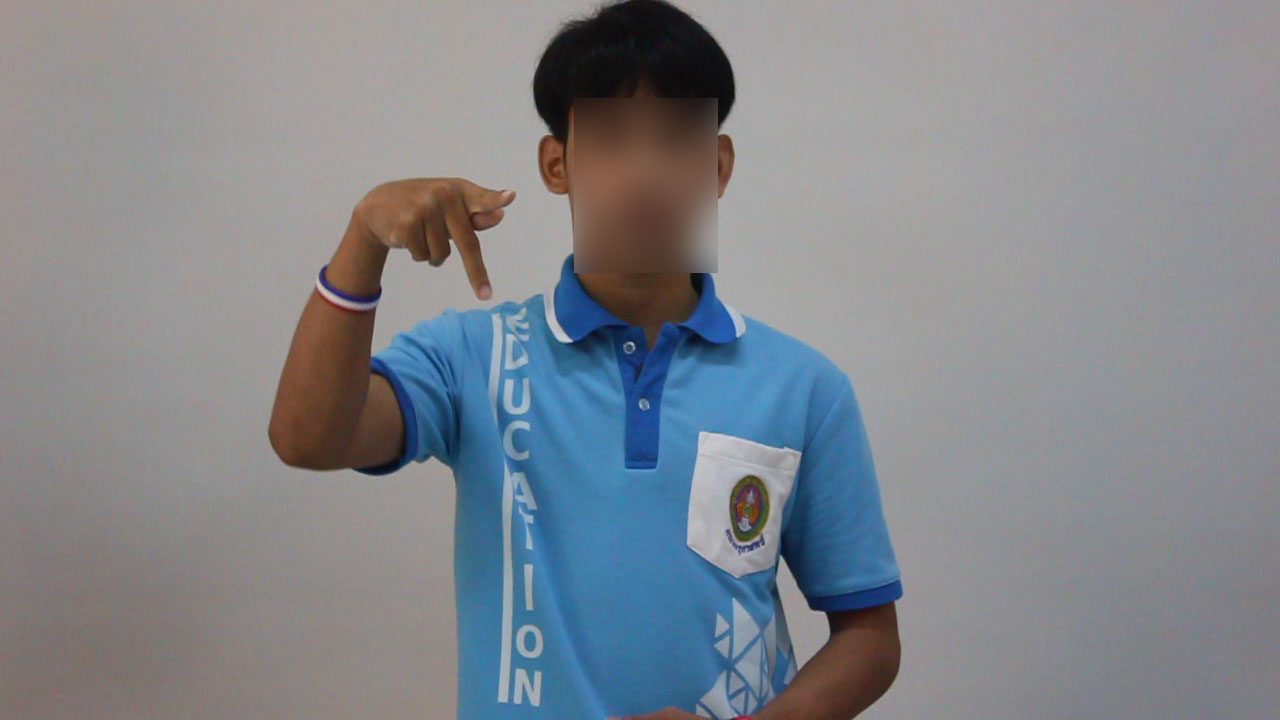por: (334, 142, 529, 315)
